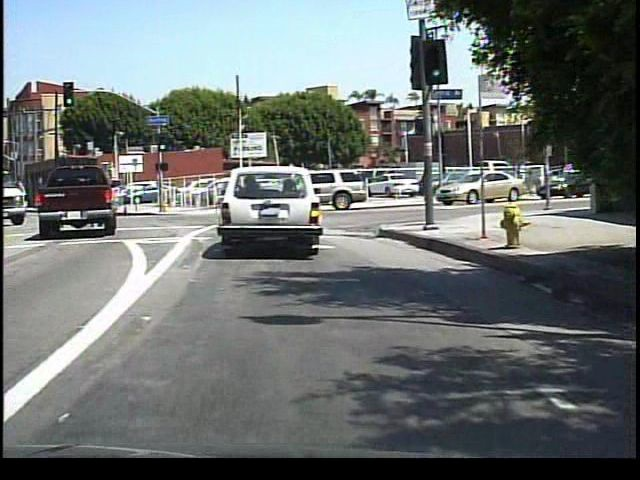person: (416, 162, 435, 204)
